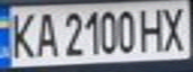0: (115, 7, 139, 55), (100, 7, 118, 55)
1: (81, 8, 100, 56)
2: (60, 8, 84, 57)
A: (30, 8, 60, 60)
H: (136, 5, 169, 53)
K: (3, 9, 39, 61)
X: (157, 2, 190, 53)
